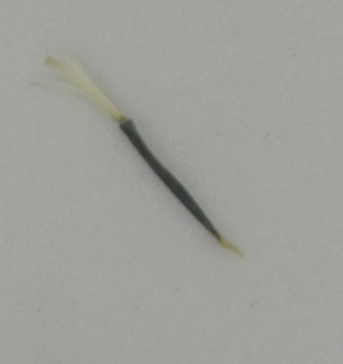เมล็ดดีเรียวยาว: (38, 49, 245, 258)
